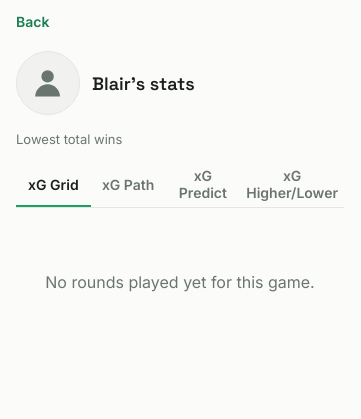
Test: UserStatsScreen › REQ-411/REQ-1304: switching to the xG Predict tab re-fetches, scoped to gameKey=xg-predict
Expected: the text "No rounds played yet for this game." is shown, [45, 272, 315, 292]
Click the tab "xG Predict" at {"x": 203, "y": 185}, box [166, 163, 240, 207]
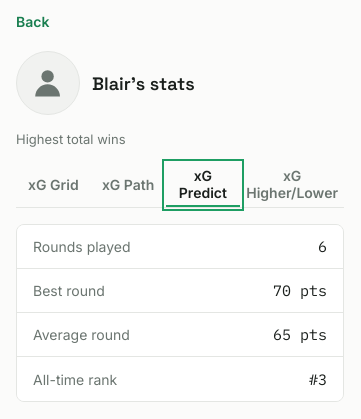
Expected: the text "70 pts" is shown, [273, 281, 327, 300]
